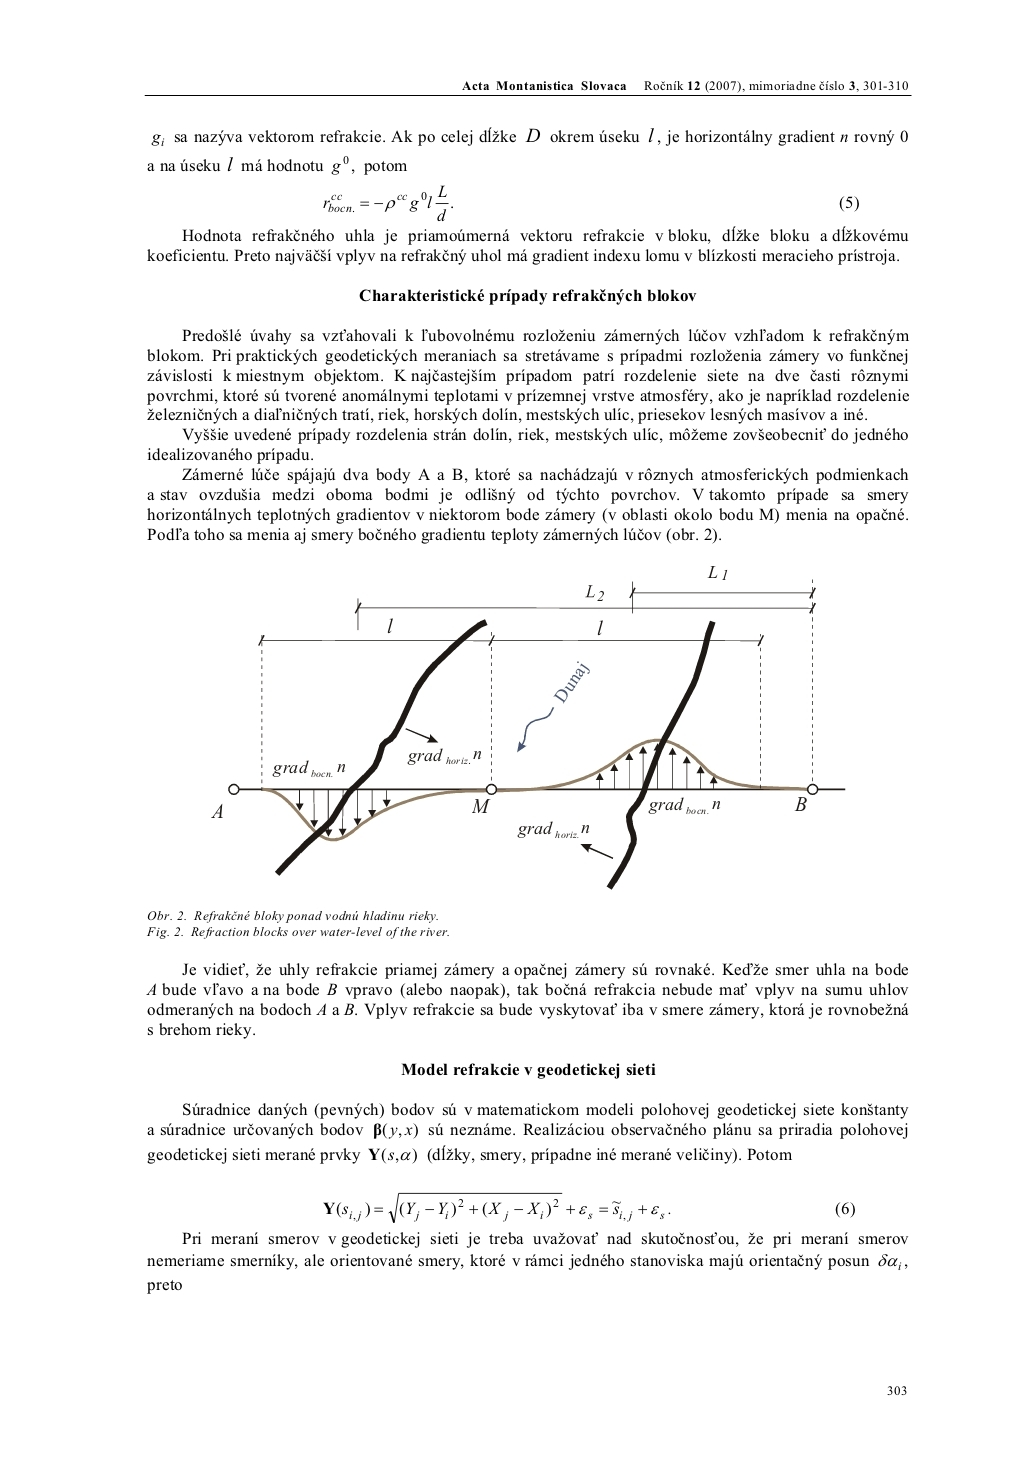figure: (211, 566, 845, 890)
formula: (322, 184, 858, 222), (322, 1191, 854, 1223)
